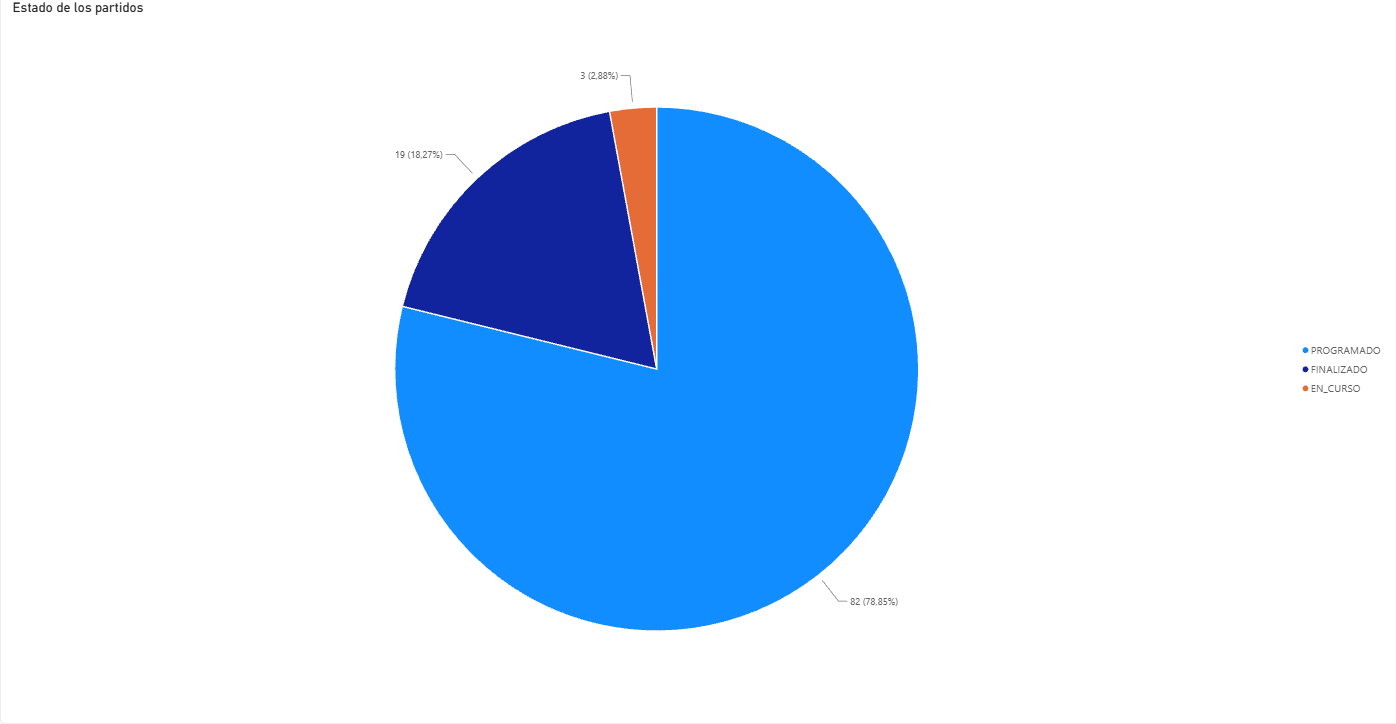

What the dashboard file says about the page in this screenshot:
{"tool":"powerbi","page":{"name":"Page 3","canvas":[1920,1080],"ordinal":2},"visuals":[{"type":"pieChart","title":"Estado de los partidos ","fields":{"Category":["torneo vw_Fixture.estado"],"Y":["CountNonNull(torneo vw_Fixture.id_partido)"]},"box":[10.6,0,1910,1001.5],"z":0}]}

Visuals, with their boxes on the page's 1920x1080 design canvas (x1, y1, x2, y2). These are canvas units, not pixel positions in the 1396x724 screenshot, which may show the page scaled, cropped or inside an application window:
"Estado de los partidos " pieChart: x1=11 y1=0 x2=1921 y2=1002
